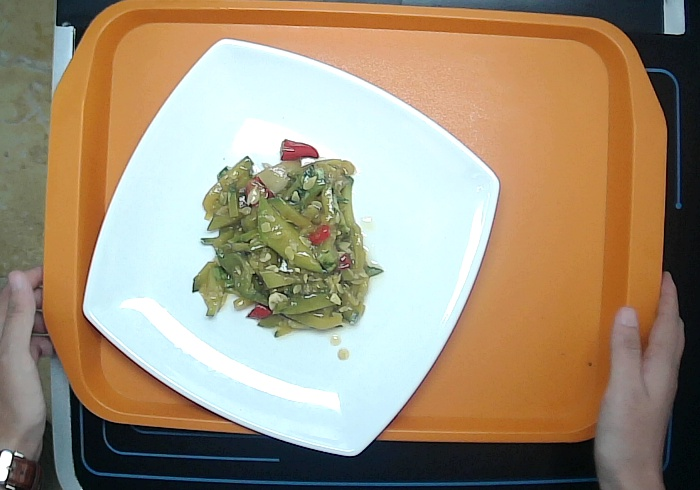ZNLD-Bai_Fang_Pan: (81, 34, 502, 457)
